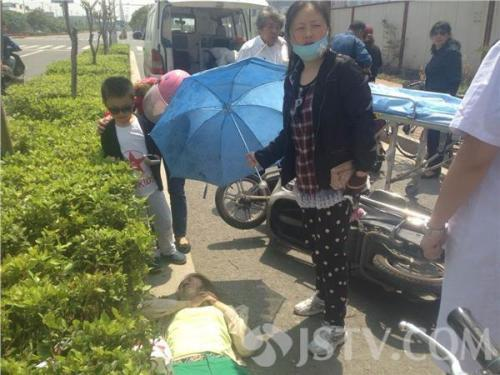Fall-Detected: (131, 262, 308, 375)
